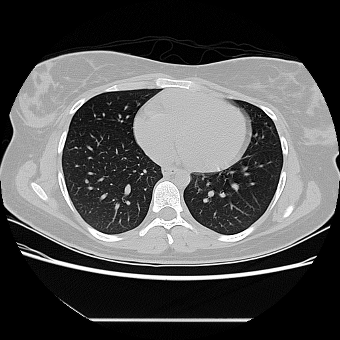nodule: (84, 179, 88, 183)
